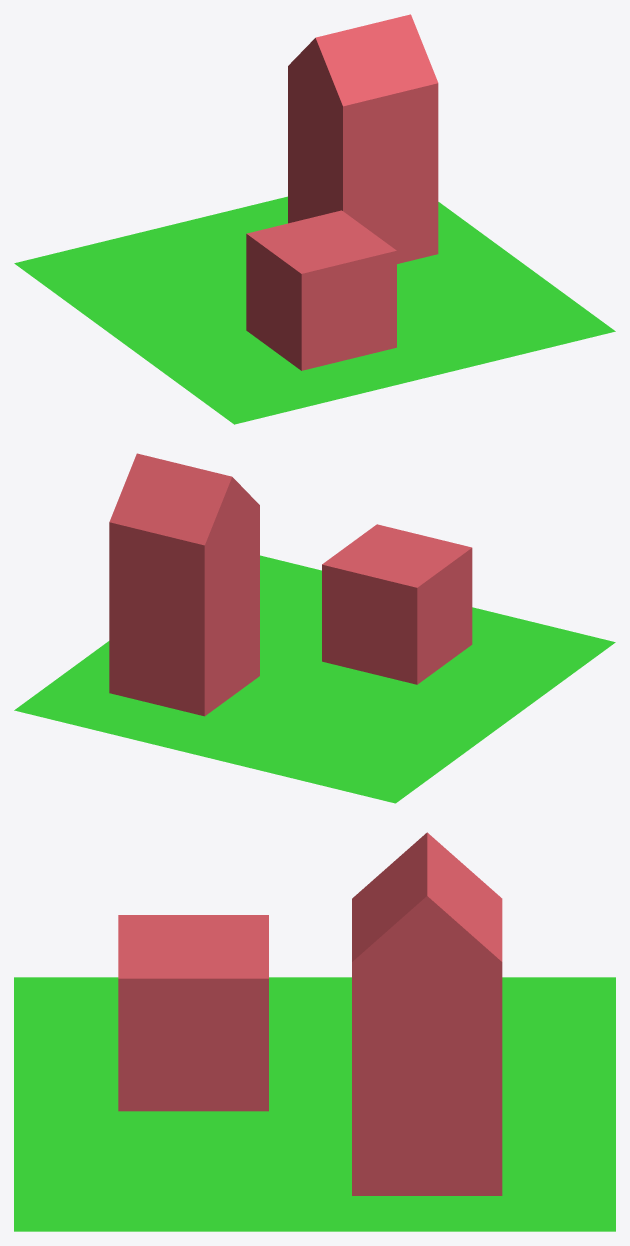
The picture shows the model from 3 angles, top to bottom: view 1: azimuth 30°, elevation 25°; view 2: azimuth 150°, elevation 25°; view 3: azimuth 270°, elevation 25°; orthographic projection. The views are drawn at different scales.
Parts seen in each view (by area): view 1: Cube.001; view 2: Cube.001; view 3: Cube.001.
Boxes of the visible parts, box(x1,y1,x2,y2) form: Cube.001: box(14, 14, 615, 424); Cube.001: box(14, 453, 615, 803); Cube.001: box(14, 832, 615, 1231).
Bounding box in the file's own units: 4 × 2.26 × 4.
